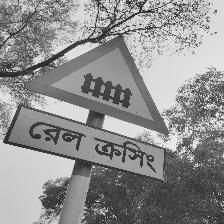Rail-crossing: (4, 35, 170, 185)
